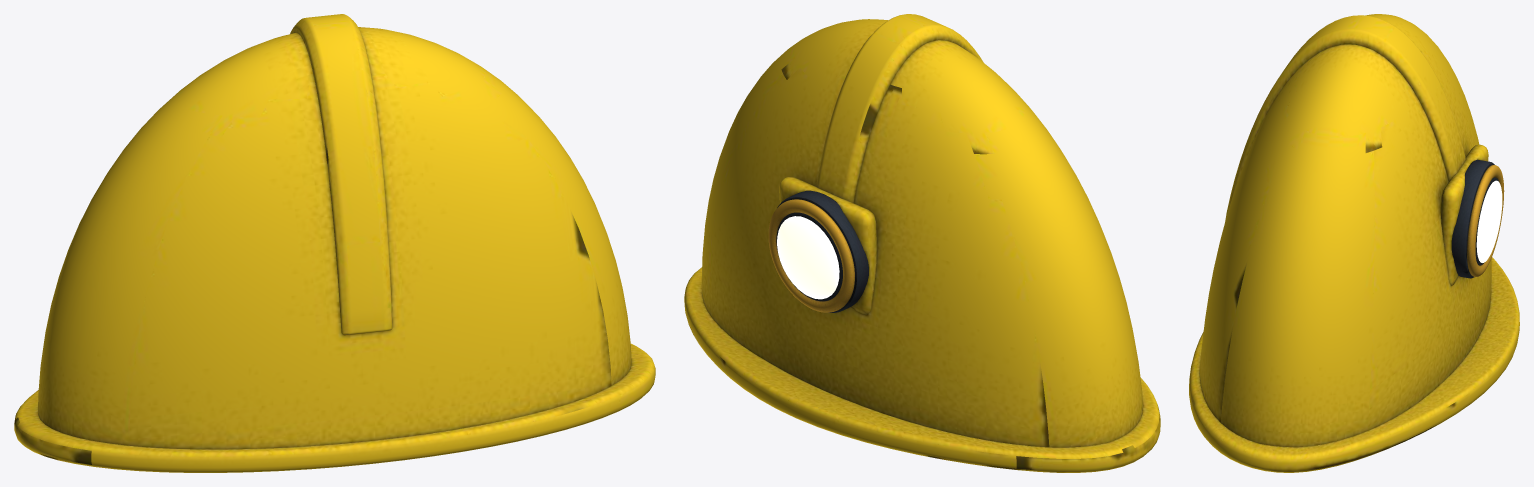
3 renders of one model, left to right at view 1: azimuth 30°, elevation 25°; view 2: azimuth 150°, elevation 25°; view 3: azimuth 270°, elevation 25°, orthographic. The views are drawn at different scales.
Visible parts, largest first — view 1: Safety_yellow_enamel; view 2: Safety_yellow_enamel, glow_Warm_headlamp_lens, Polished_lamp_bezel, Graphite_socket; view 3: Safety_yellow_enamel, Graphite_socket, glow_Warm_headlamp_lens, Polished_lamp_bezel.
Boxes of the visible parts, <box> form: Safety_yellow_enamel: <box>14,14,655,472</box>; Safety_yellow_enamel: <box>684,14,1160,472</box>; glow_Warm_headlamp_lens: <box>777,216,839,299</box>; Polished_lamp_bezel: <box>768,199,854,312</box>; Graphite_socket: <box>776,190,868,312</box>; Safety_yellow_enamel: <box>1189,14,1519,472</box>; Graphite_socket: <box>1451,159,1498,278</box>; glow_Warm_headlamp_lens: <box>1476,180,1502,262</box>; Polished_lamp_bezel: <box>1467,165,1504,276</box>.
Size of the model in its own units: 0.7446 by 0.4921 by 0.4386.
Materials: 4 (3 with a texture image).
